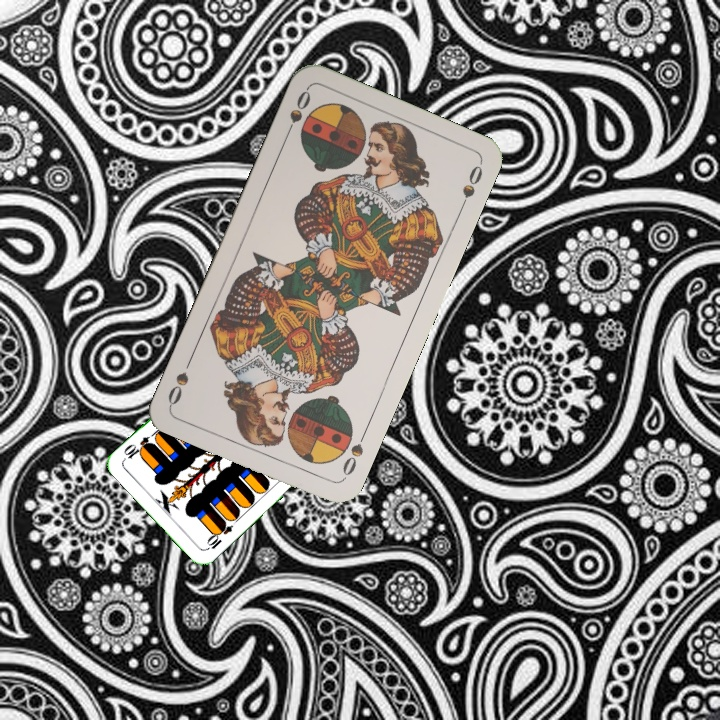E10: (202, 518, 235, 553)
SO: (280, 85, 314, 142), (338, 426, 370, 483)
